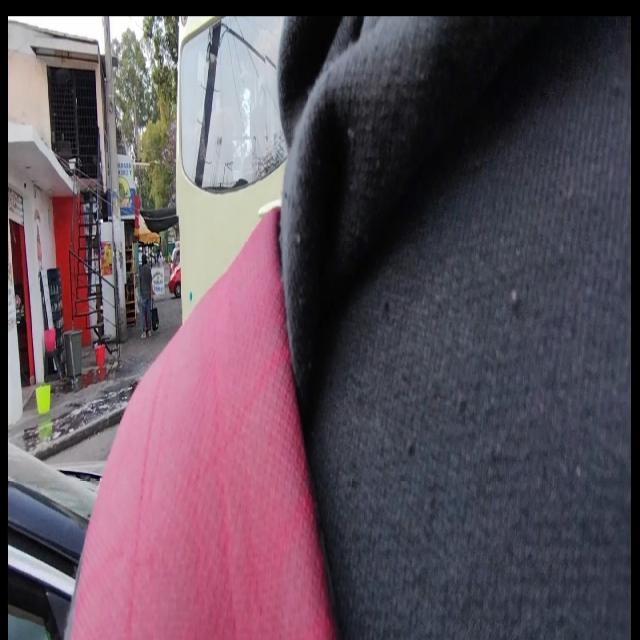adult: (139, 254, 152, 338)
